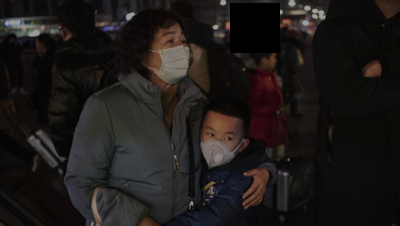with_mask: (149, 28, 190, 84), (199, 124, 242, 169)
without_mask: (266, 52, 278, 69)
